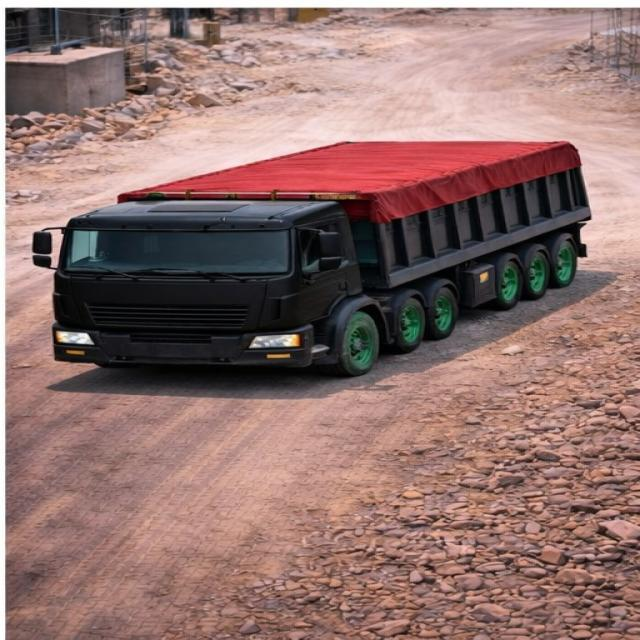trailer: (118, 137, 582, 199)
truck: (26, 131, 628, 383)
